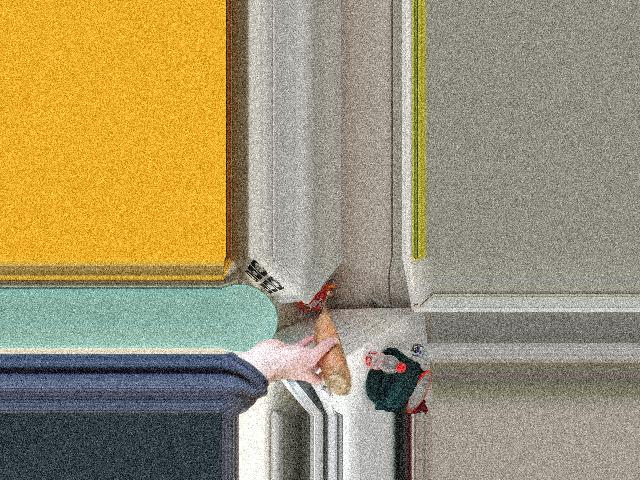sweet_potato: (319, 304, 345, 395)
